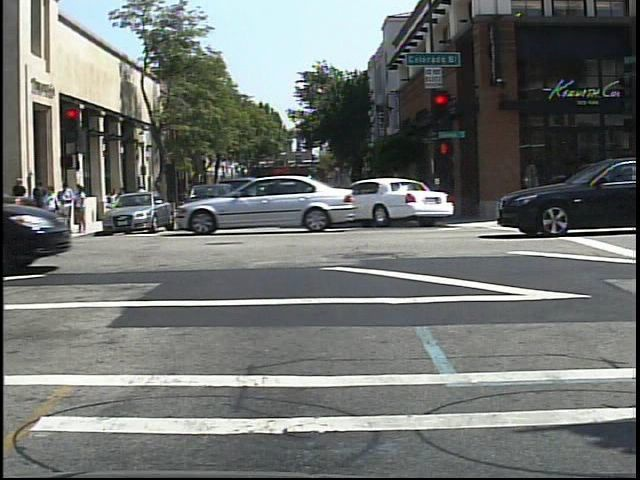person: (132, 181, 152, 221), (135, 181, 149, 214)
